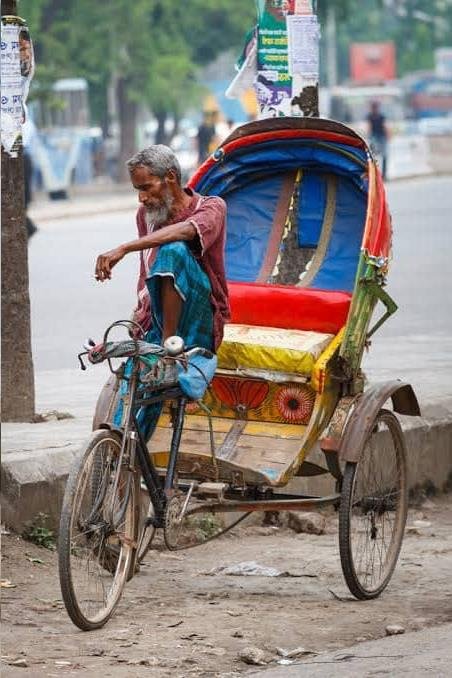Rickshaw: (57, 104, 411, 617)
